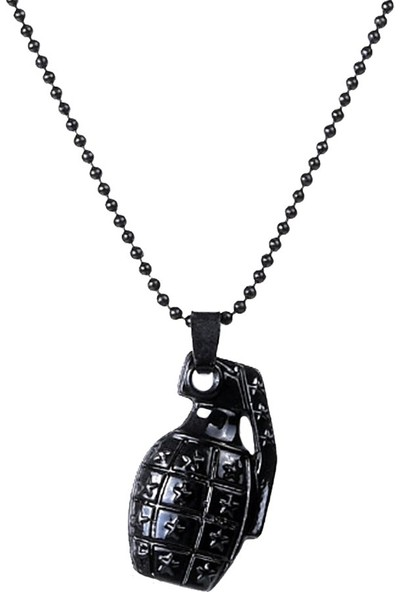e1: (122, 354, 278, 586)
